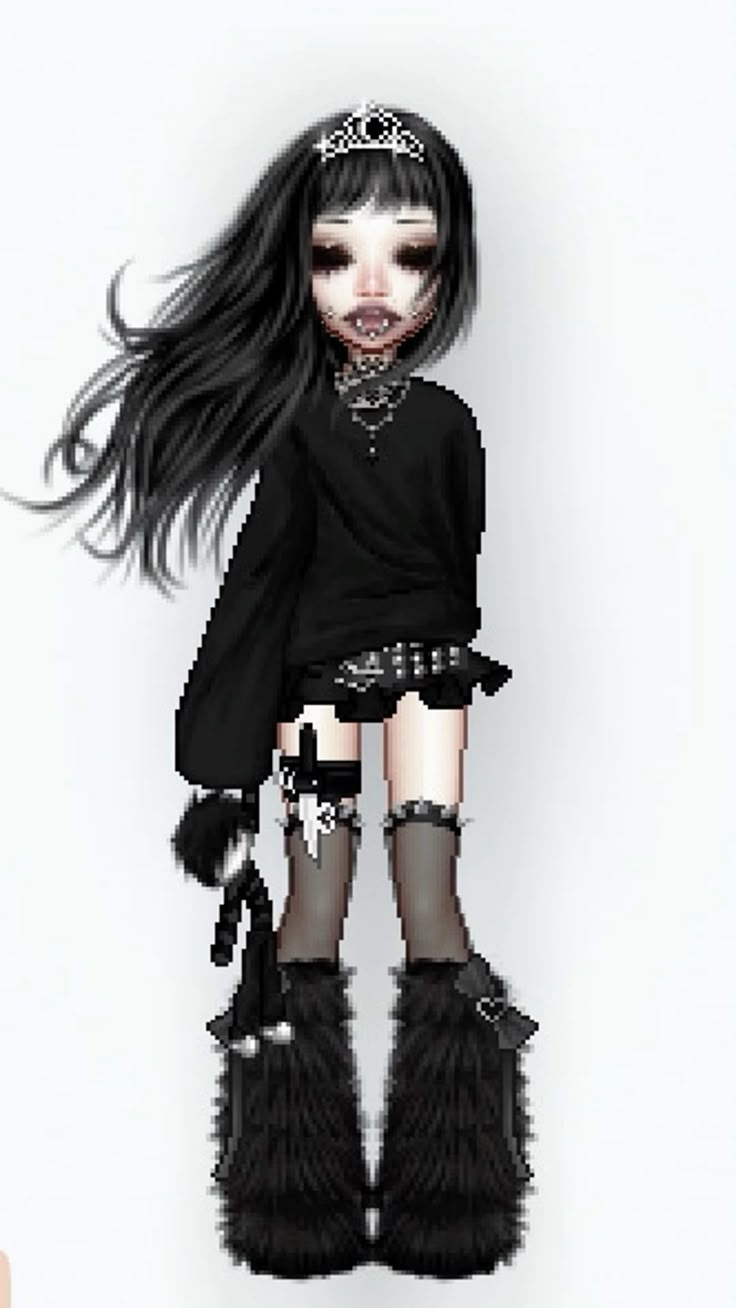Imprimante: (116, 531, 238, 691)
